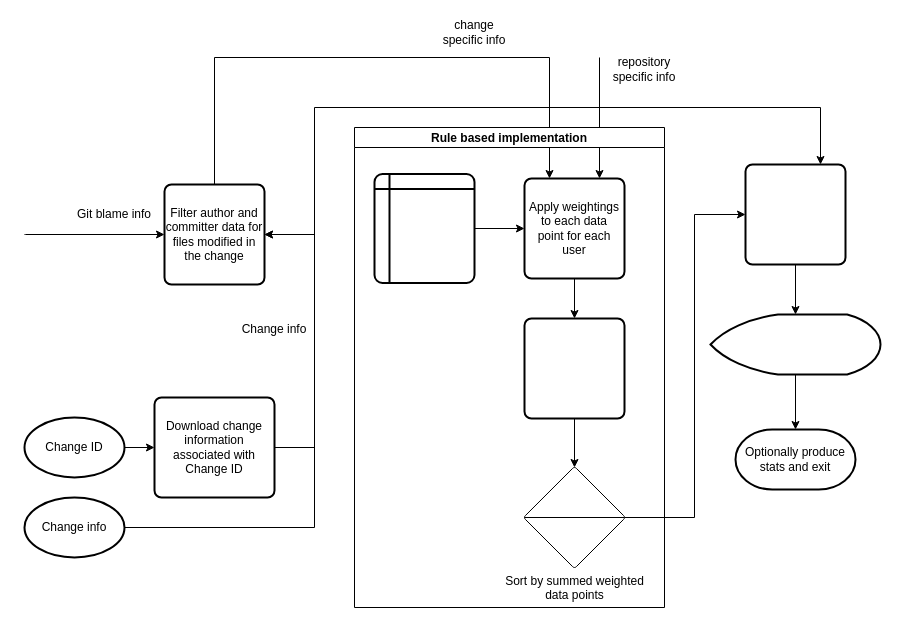
Image size: 899x625. Some labels were removed from this diagram. Here are the shapes that lost their labels. From the top down, the box of each, then its label:
(373, 172, 475, 284): Pre-defined weightings for each data point type
(744, 163, 846, 265): Remove bots and the author of the change from suggestions
(709, 313, 881, 375): Output recommendations
(523, 317, 625, 419): Sum weighted data points for each user
